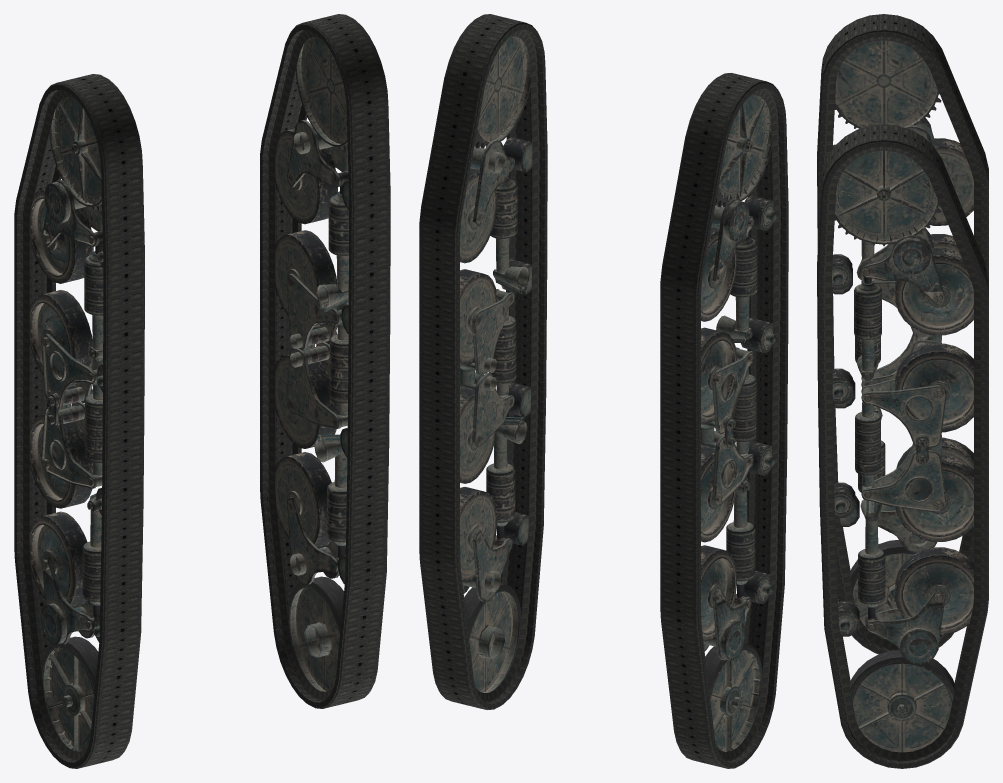
File: Chassis.glb
3 views of the same model, side by side, from view 1: azimuth 30°, elevation 25°; view 2: azimuth 150°, elevation 25°; view 3: azimuth 270°, elevation 25° (orthographic). The views are drawn at different scales.
Parts seen in each view (by area): view 1: set_1_group_0, set_0_group_0, set_3_group_0, set_2_group_0; view 2: set_1_group_0, set_0_group_0, set_3_group_0, set_2_group_0; view 3: set_3_group_0, set_0_group_0, set_2_group_0, set_1_group_0.
Part boxes in pixels (<box>): set_1_group_0: <box>14,74,144,768</box>; set_0_group_0: <box>260,14,390,708</box>; set_3_group_0: <box>275,36,348,691</box>; set_2_group_0: <box>29,96,103,751</box>; set_1_group_0: <box>660,73,788,768</box>; set_0_group_0: <box>419,14,547,709</box>; set_3_group_0: <box>460,36,532,692</box>; set_2_group_0: <box>701,95,776,751</box>; set_3_group_0: <box>832,150,973,752</box>; set_0_group_0: <box>817,124,988,768</box>; set_2_group_0: <box>832,40,973,638</box>; set_1_group_0: <box>817,14,988,654</box>.
Size of the model in its own units: 1.61 by 3.69 by 0.9145.
4 materials, 4 textured.
